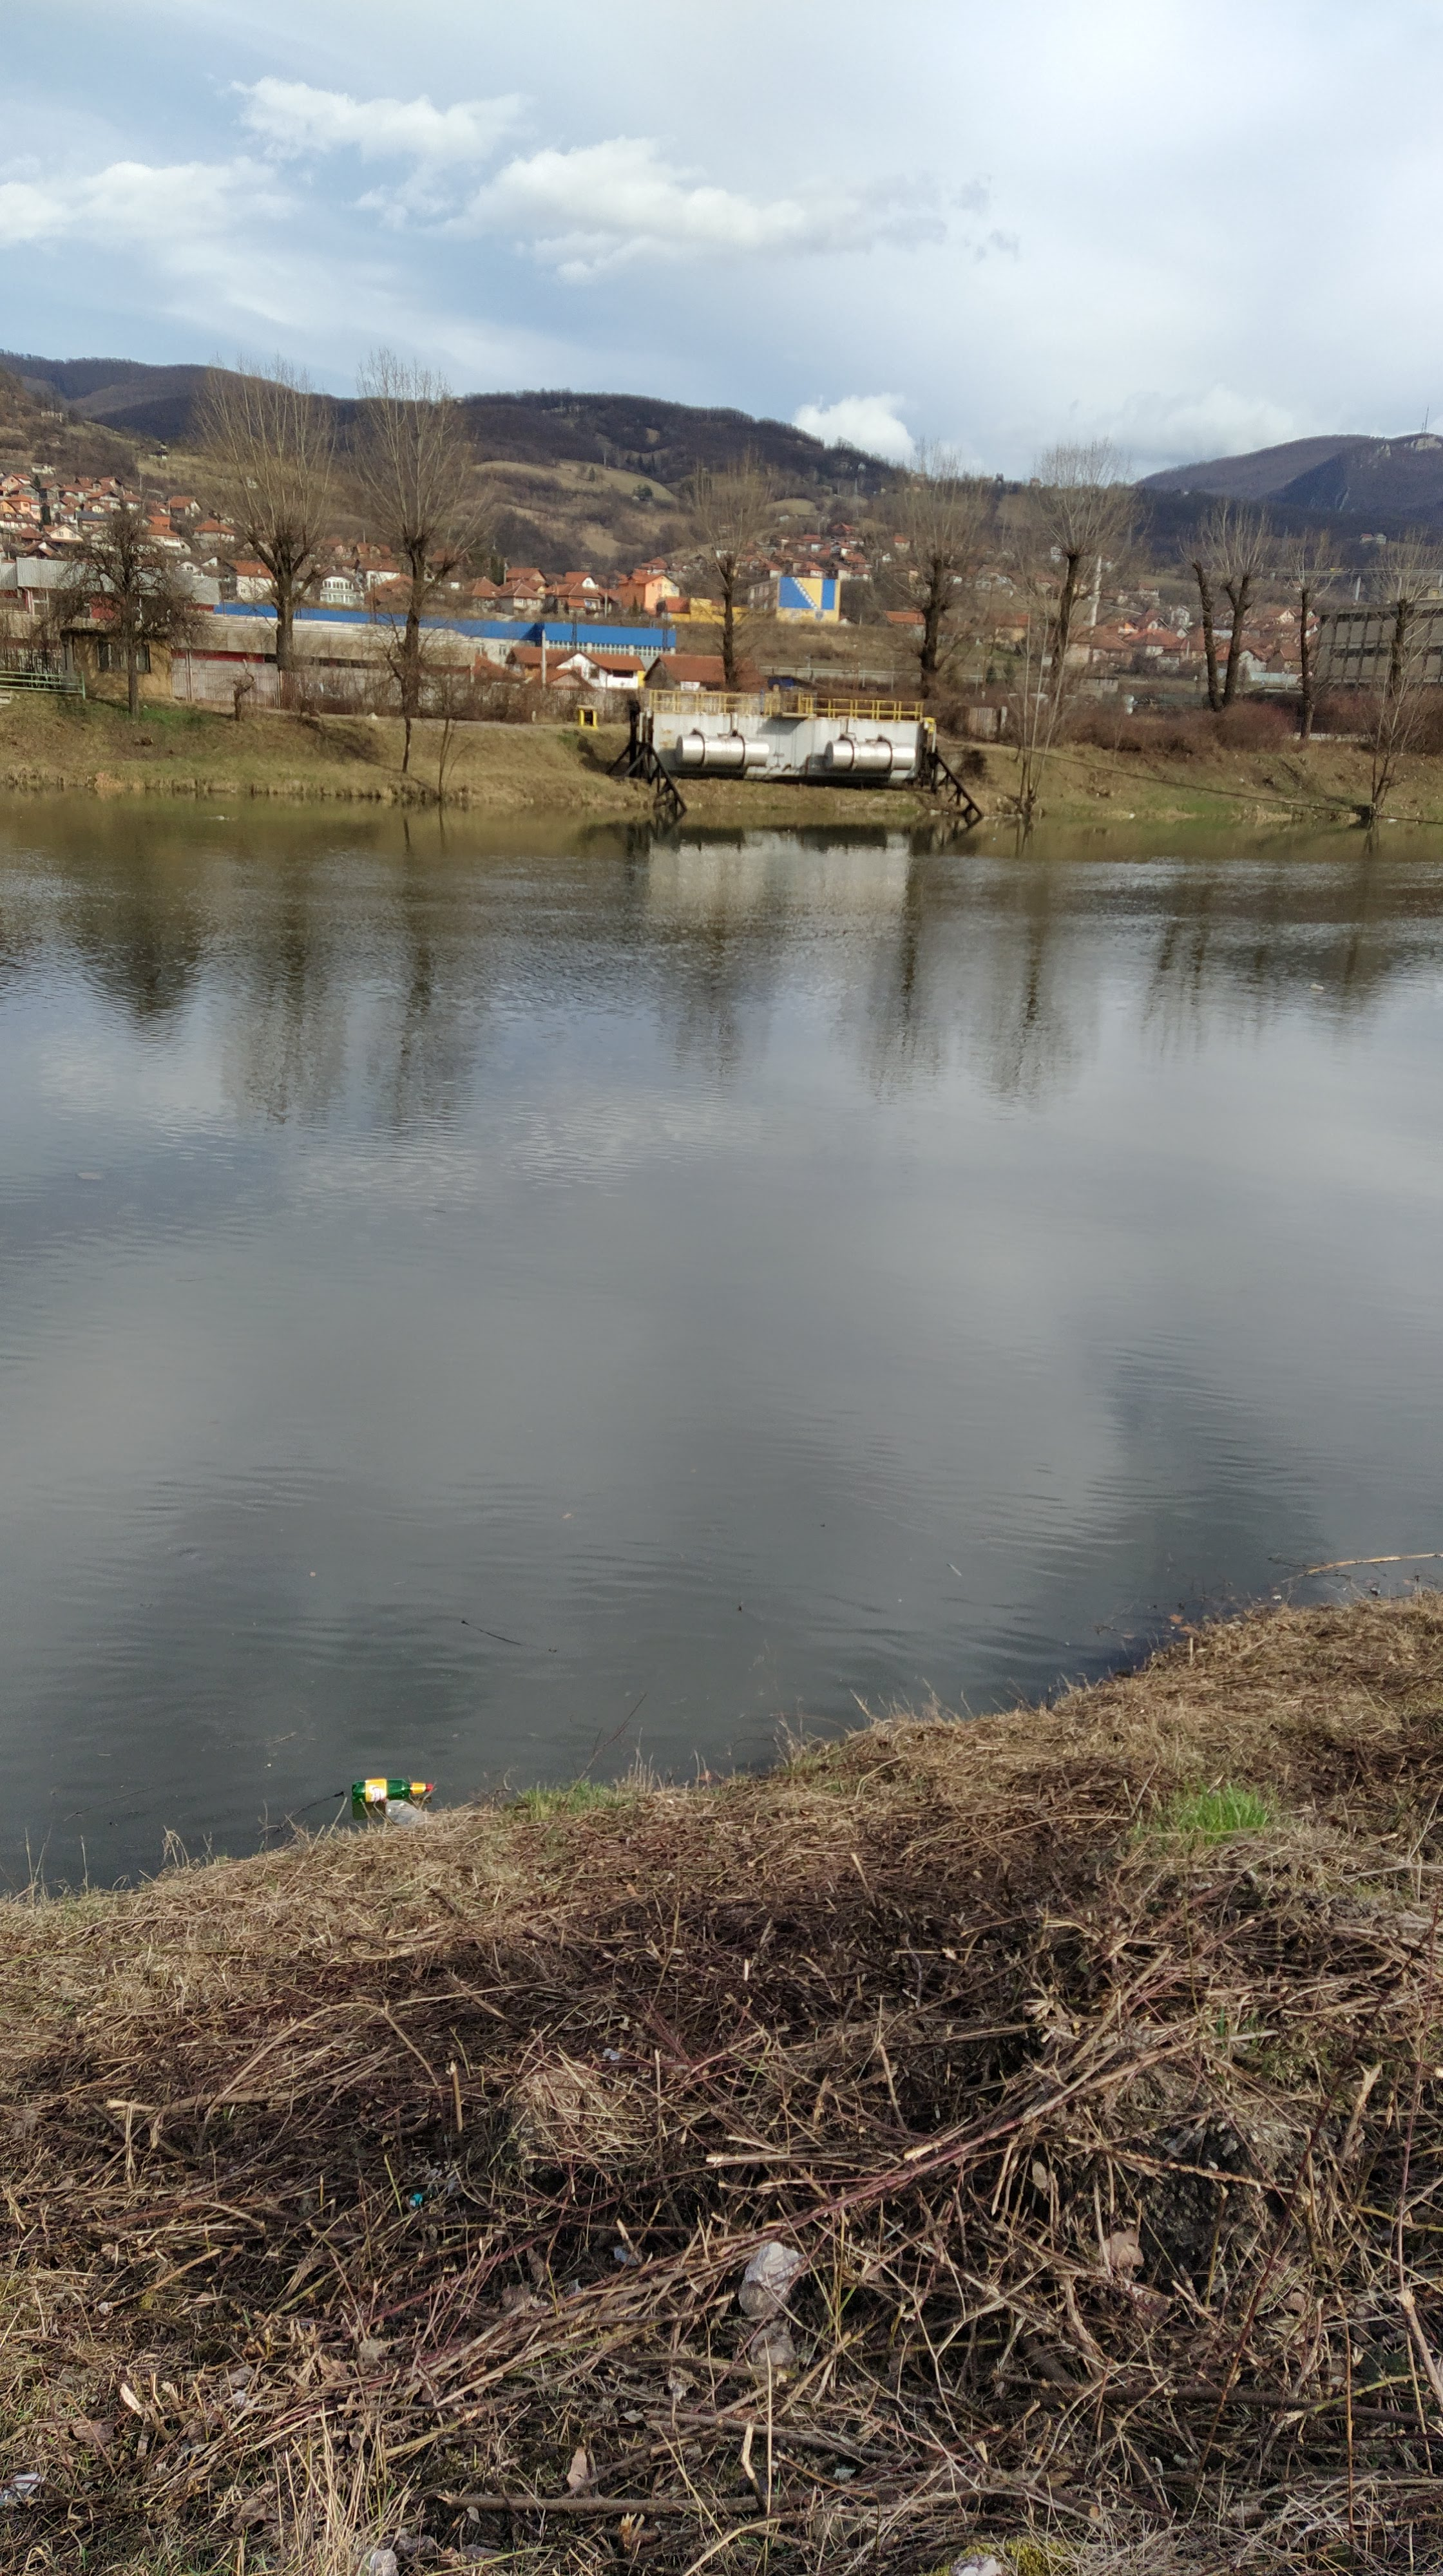Plastic Bottle: (351, 1778, 432, 1803), (382, 1798, 420, 1826), (1310, 982, 1323, 991)
